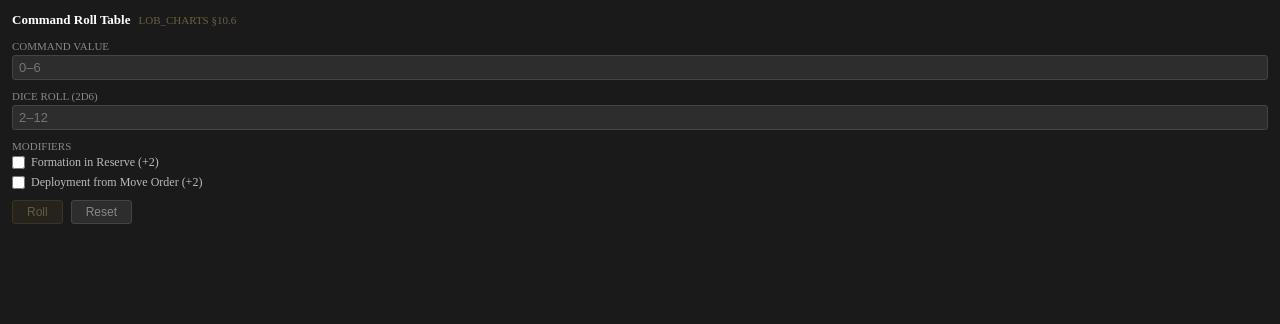
Test: CommandRollPanel › reset clears result
In the number field labelled "Command Value": (640, 68) [12,55,1268,80], type "3"
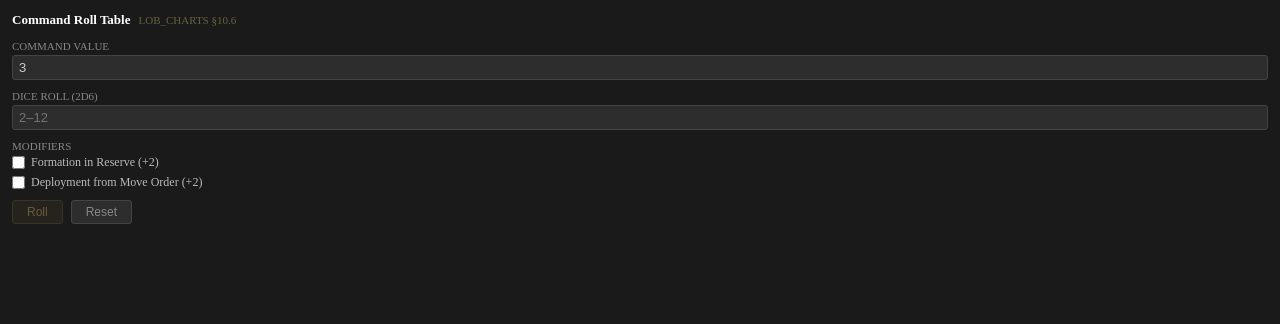
In the number field labelled "Dice Roll (2d6)": (640, 118) [12,105,1268,130], type "9"
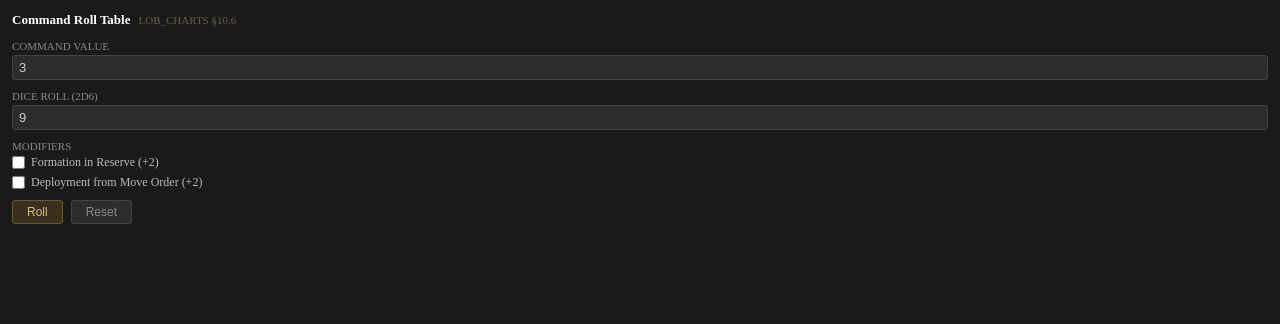
Click the button "Roll": (37, 212) [12,200,63,224]
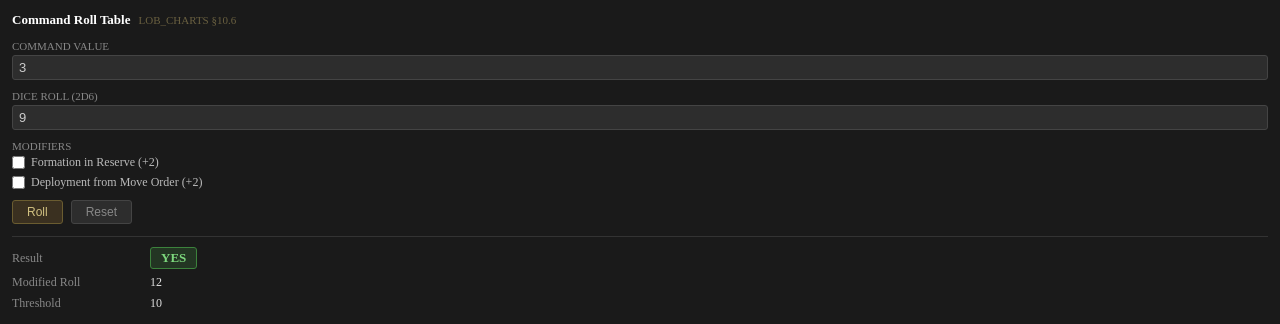
Click the button "Reset": (101, 212) [71,200,132,224]
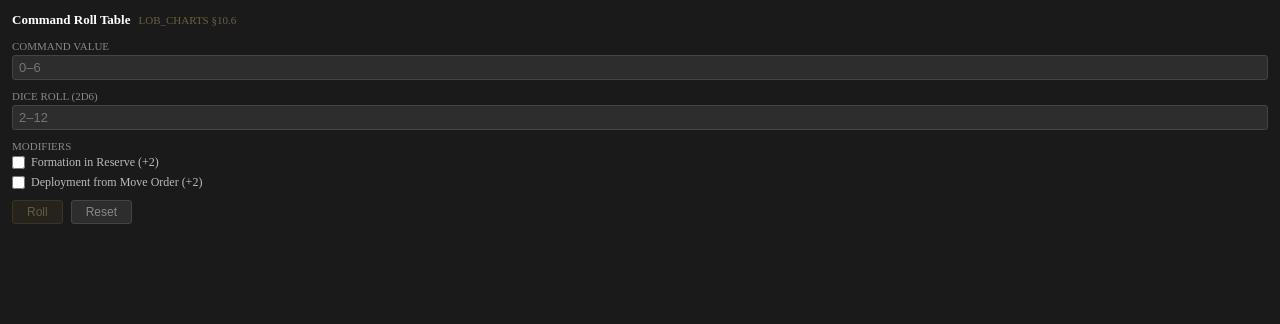
Now the text "Modified Roll" is gone
